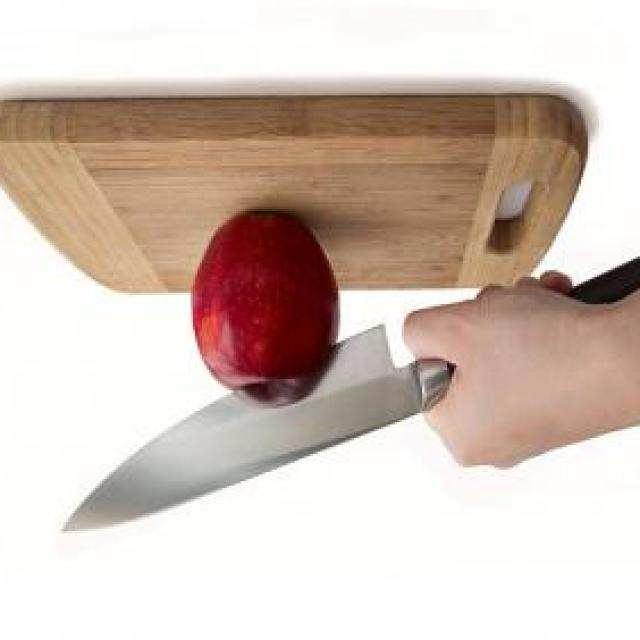knife: (54, 247, 640, 547)
